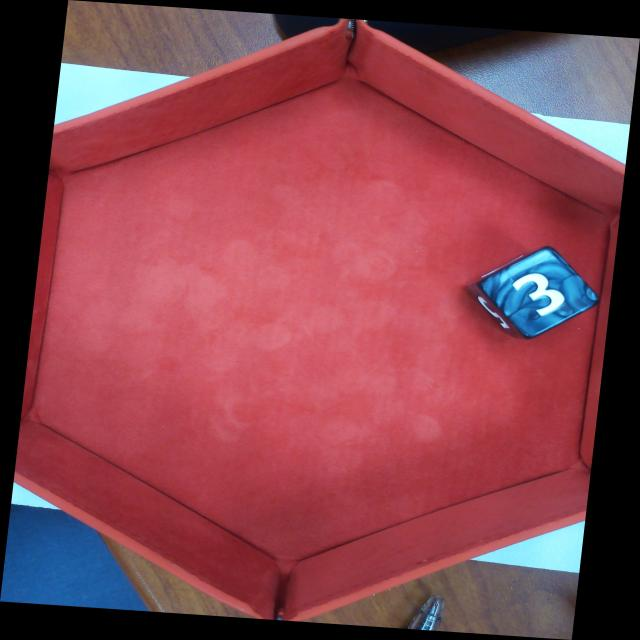dice: (474, 242, 607, 343)
